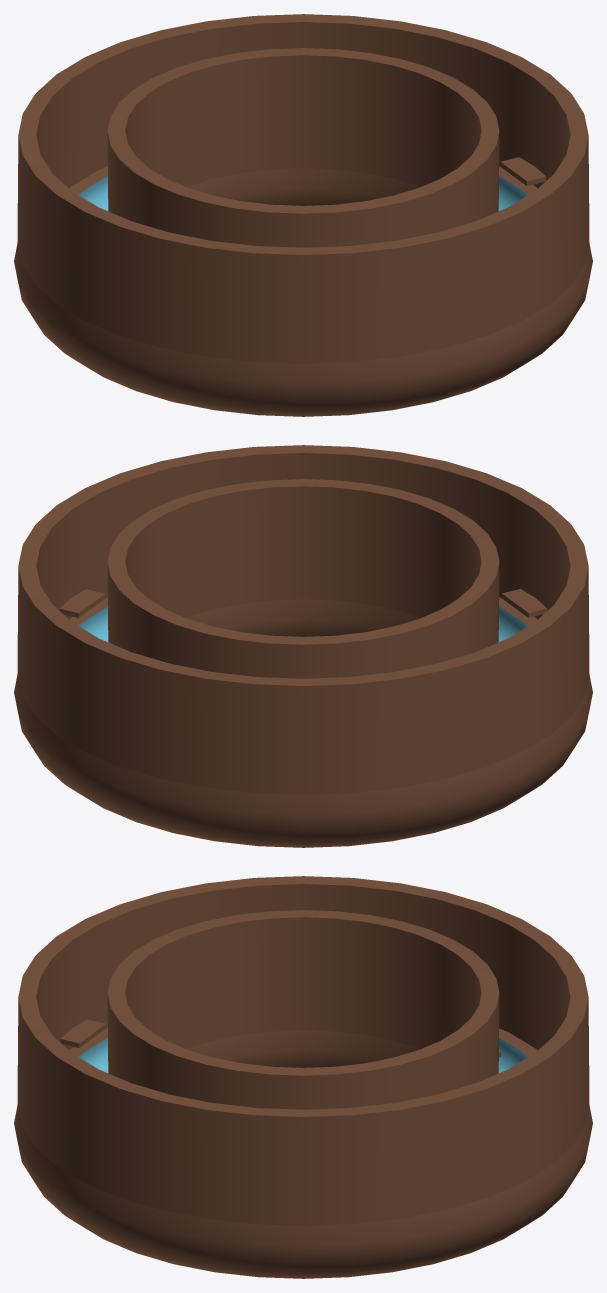
Rendered from Course.fbx.
The picture shows the model from 3 angles, top to bottom: view 1: azimuth 30°, elevation 25°; view 2: azimuth 150°, elevation 25°; view 3: azimuth 270°, elevation 25°; orthographic projection.
Parts seen in each view (by area): view 1: Torus_2, Cube_3; view 2: Torus_2, Cube_3, Cube_10; view 3: Torus_2, Cube_10.
Part boxes in pixels (left/top/right/bottom): Torus_2: left=14, top=14, right=592, bottom=416; Cube_3: left=500, top=157, right=546, bottom=185; Torus_2: left=14, top=445, right=592, bottom=847; Cube_3: left=59, top=589, right=105, bottom=617; Cube_10: left=501, top=589, right=547, bottom=617; Torus_2: left=14, top=876, right=592, bottom=1278; Cube_10: left=60, top=1019, right=105, bottom=1047.
Size of the model in its own units: 5000 by 1738 by 5000.
